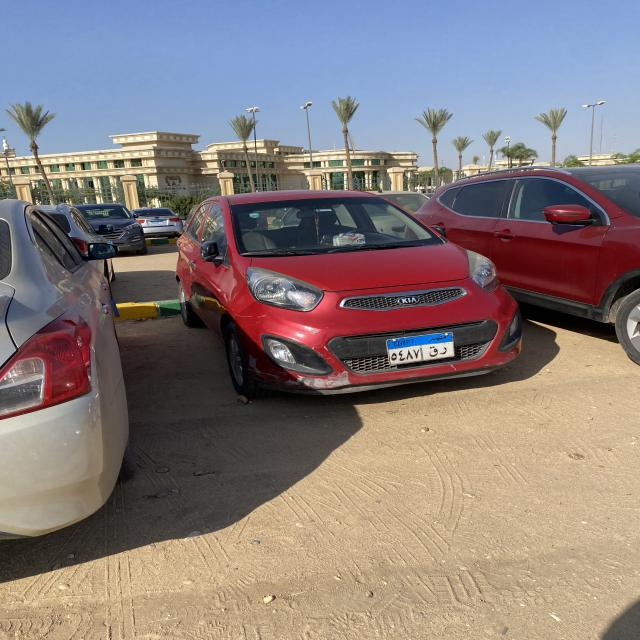License Plate: (386, 331, 455, 365), (152, 220, 163, 225)
